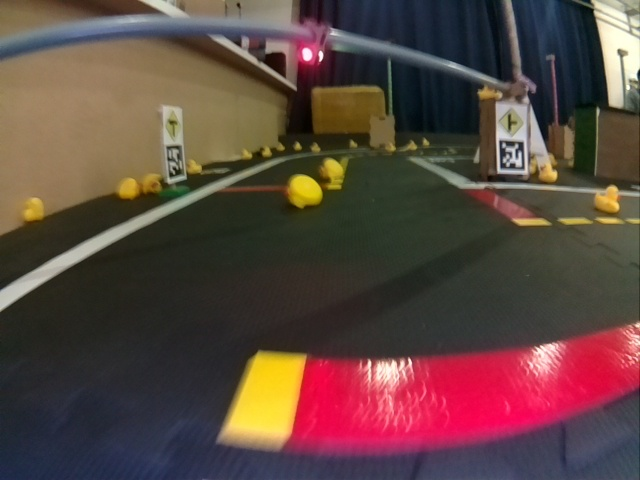Duckie: (285, 175, 323, 208), (593, 184, 622, 214), (22, 195, 43, 220), (319, 158, 344, 177), (117, 176, 137, 199), (539, 165, 559, 182), (144, 174, 160, 194), (189, 160, 202, 173), (263, 146, 272, 156), (242, 149, 251, 158), (277, 143, 285, 152), (295, 142, 302, 151)
Intersection sign: (496, 103, 526, 134), (164, 109, 184, 141)
QR code: (498, 141, 528, 172), (166, 145, 185, 180)
Traffic light: (298, 19, 329, 66)
